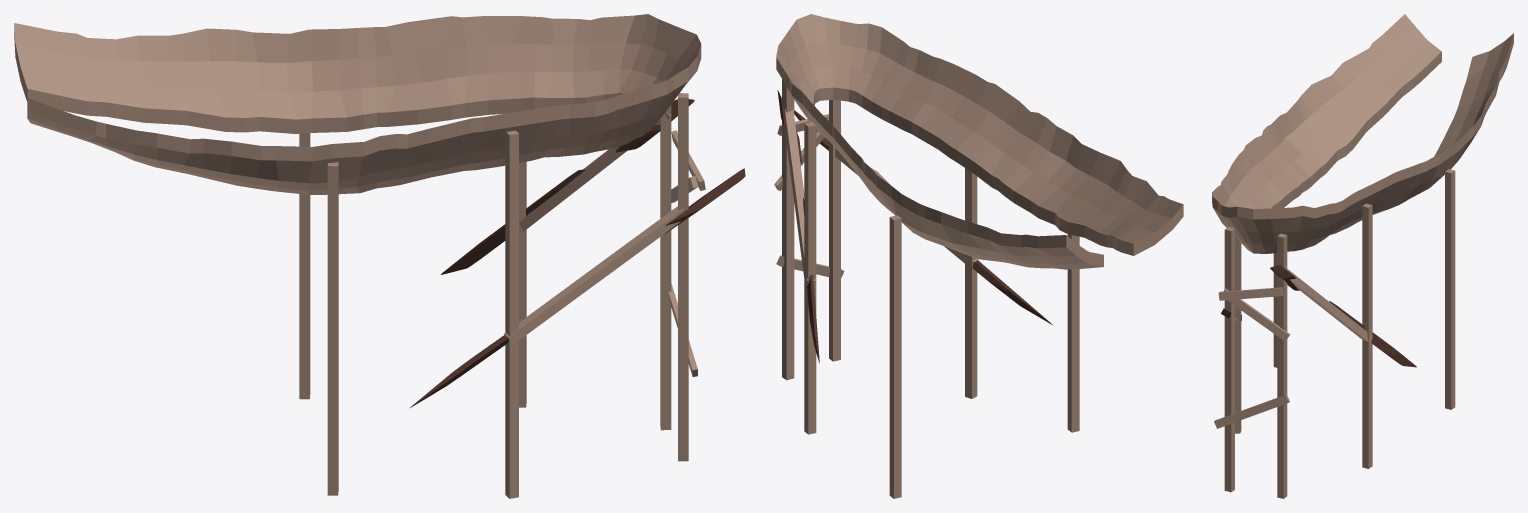
File: u_ramp_collision_geo.fbx
The picture shows the model from 3 angles, left to right: view 1: azimuth 30°, elevation 25°; view 2: azimuth 150°, elevation 25°; view 3: azimuth 270°, elevation 25°; orthographic projection. The views are drawn at different scales.
Visible parts, largest first — view 1: plank1, pole5, pole6, pole4, pole3, lattice4, pole1, pole2, lattice5, lattice5_support1, lattice4_support1, lattice4_support2; view 2: plank1, pole1, pole2, pole3, pole4, pole5, pole6, lattice5, lattice4_support1, lattice5_support1; view 3: plank1, pole2, pole4, pole1, pole3, pole5, lattice5, board3, board2, board1, lattice5_support1, pole6.
Part boxes in pixels (x1,y1,x2,y2): plank1: (14, 14, 701, 194); pole5: (505, 130, 518, 498); pole6: (327, 162, 338, 495); pole4: (678, 93, 688, 461); pole3: (660, 105, 671, 430); lattice4: (504, 206, 685, 344); pole1: (299, 133, 310, 399); pole2: (519, 161, 526, 407); lattice5: (519, 112, 671, 231); lattice5_support1: (441, 169, 585, 274); lattice4_support1: (409, 335, 508, 408); lattice4_support2: (665, 168, 745, 233); plank1: (776, 14, 1183, 269); pole1: (889, 215, 901, 498); pole2: (804, 122, 816, 434); pole3: (782, 79, 794, 380); pole4: (829, 99, 840, 361); pole5: (965, 168, 977, 398); pole6: (1067, 234, 1079, 432); lattice5: (784, 108, 815, 284); lattice4_support1: (972, 260, 1052, 324); lattice5_support1: (803, 197, 819, 363); plank1: (1212, 14, 1513, 253); pole2: (1362, 203, 1372, 468); pole4: (1224, 227, 1234, 492); pole1: (1445, 169, 1455, 409); pole3: (1277, 233, 1287, 498); pole5: (1235, 236, 1241, 433); lattice5: (1285, 268, 1372, 342); board3: (1214, 394, 1289, 428); board2: (1223, 288, 1290, 341); board1: (1218, 287, 1283, 300); lattice5_support1: (1329, 301, 1416, 367); pole6: (1273, 253, 1277, 367).
Bounding box in the file's own units: 2270 × 1493 × 1398.
